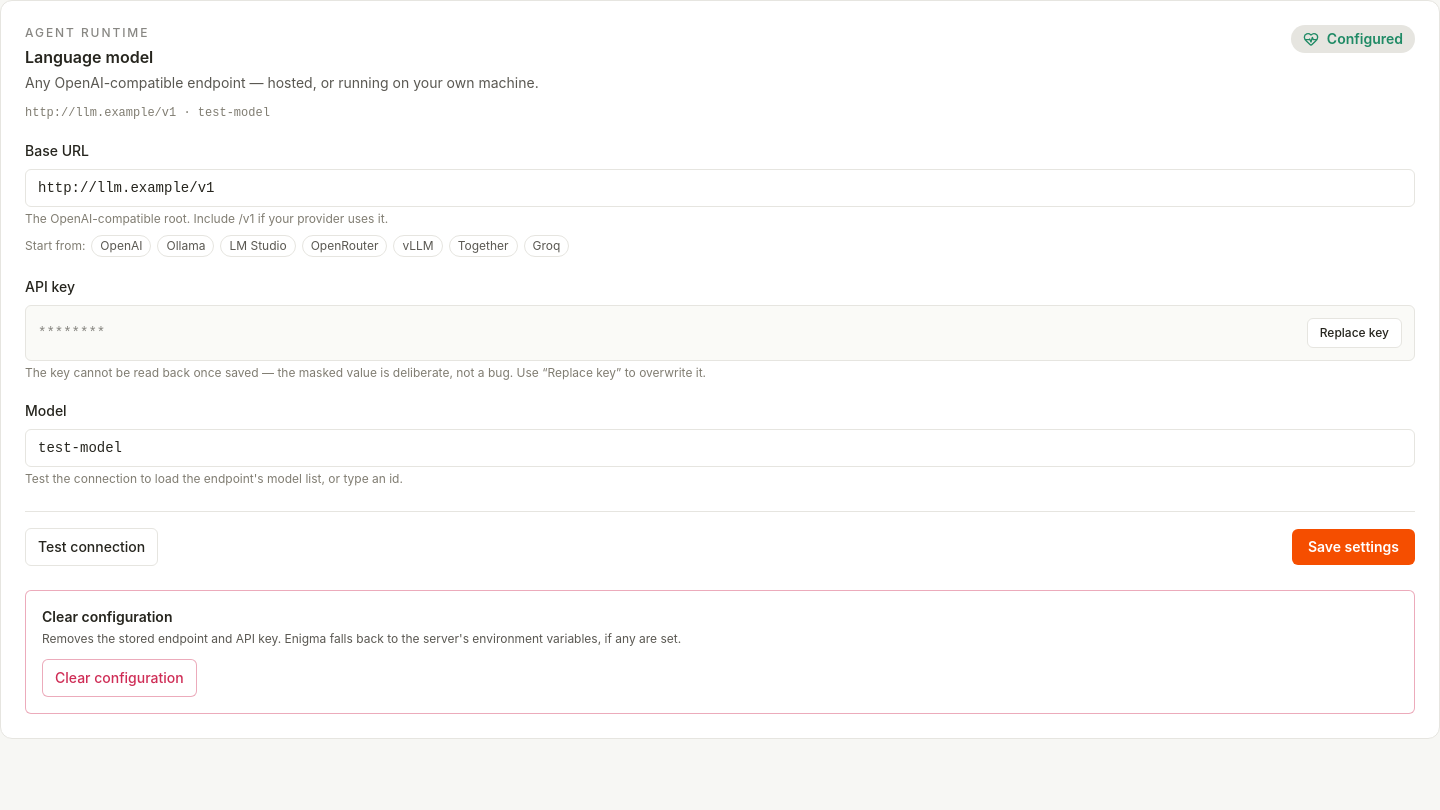
Test: LlmSettingsPanel › reports a successful test and offers the returned models
This screenshot has width=1440, height=810.
Click the button "Test connection": {"x": 92, "y": 547} [25,528,158,566]
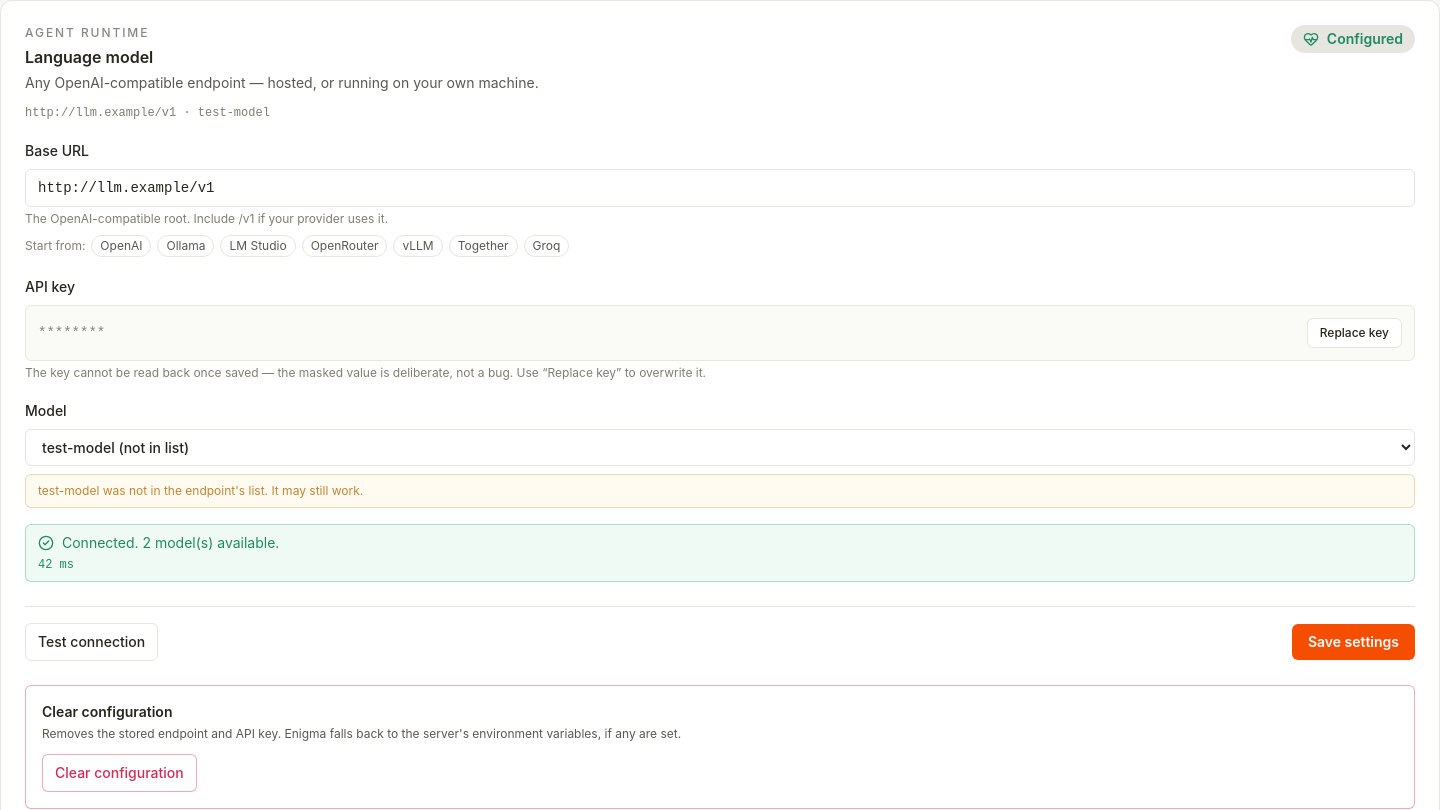
Expected: the text "Connected. 2 model(s) available." is shown, [38,534,279,551]
Expected: the text "42 ms" is shown, [38,558,74,572]
Expected: the dropdown labelled "Model" is shown, [25,429,1415,466]
